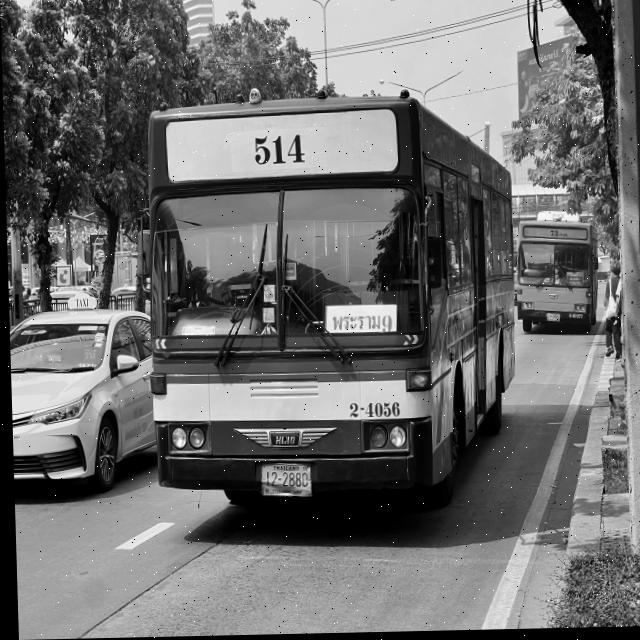BMTA-bus: (137, 79, 522, 519), (516, 215, 600, 341)
Bus-Line-Number: (244, 130, 310, 167), (547, 230, 568, 242)
Destination-Sign-Extra-Bus: (325, 306, 395, 333), (566, 274, 582, 289)
